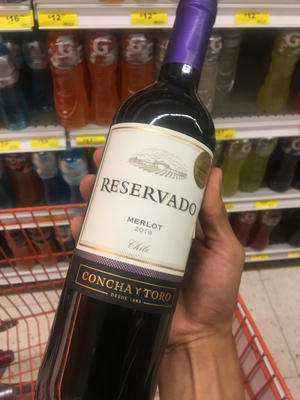reservado merlot: (78, 4, 232, 400)
